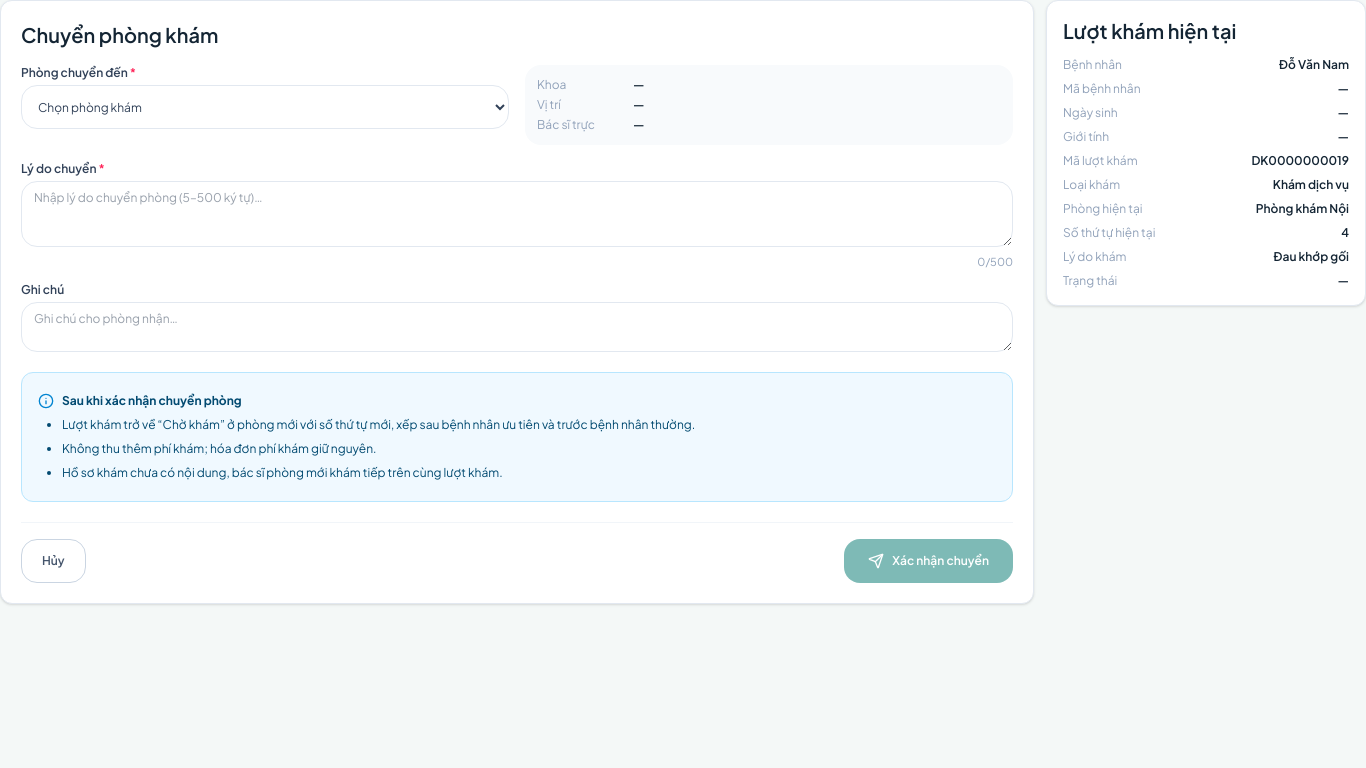
it: TransferRoomPanel › goes back to the form without transferring when the Doctor does not confirm
Select "PK-NGOAI - Phòng khám Ngoại" in the dropdown labelled "Phòng chuyển đến *": (265, 107) [21,85,509,129]
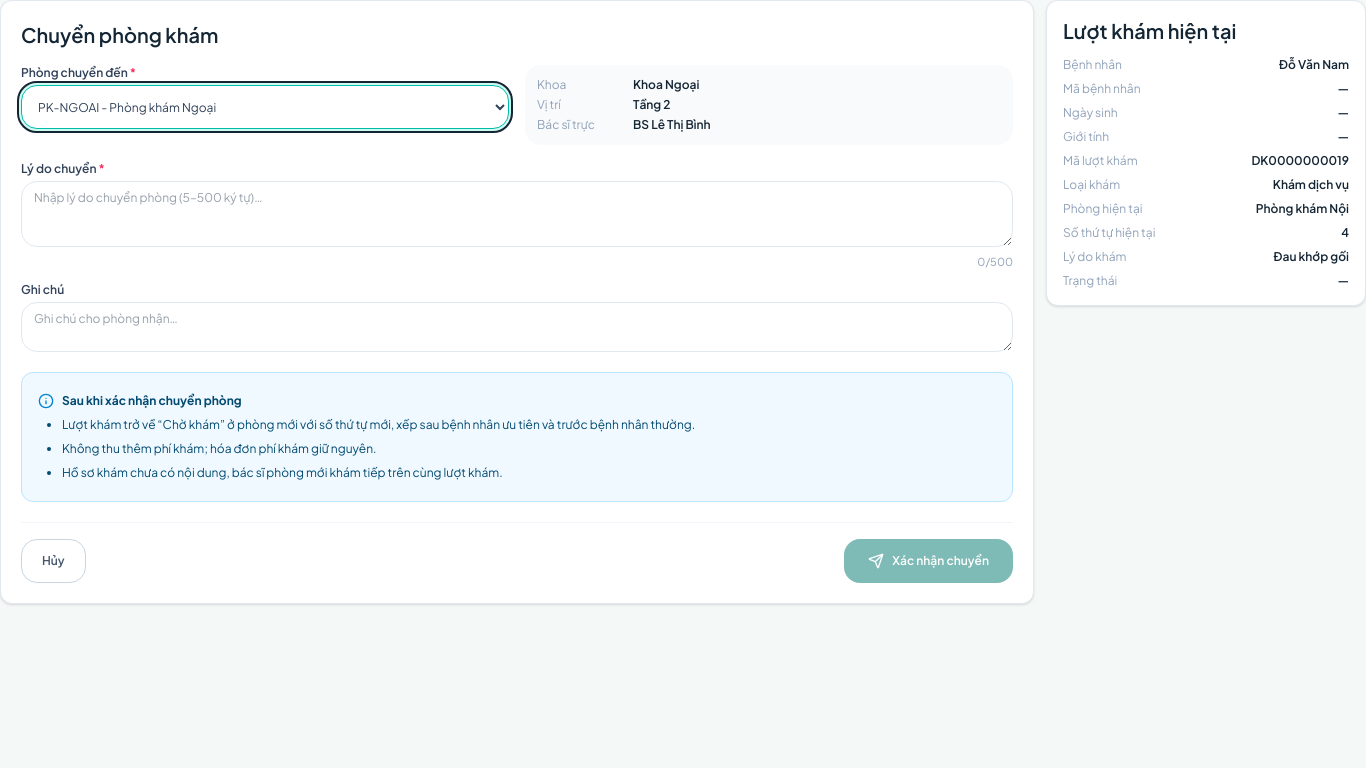
In the text box labelled "Lý do chuyển * 0/500": (517, 214) [21,181,1013,247], type "Cần khám chuyên khoa Ngoại"
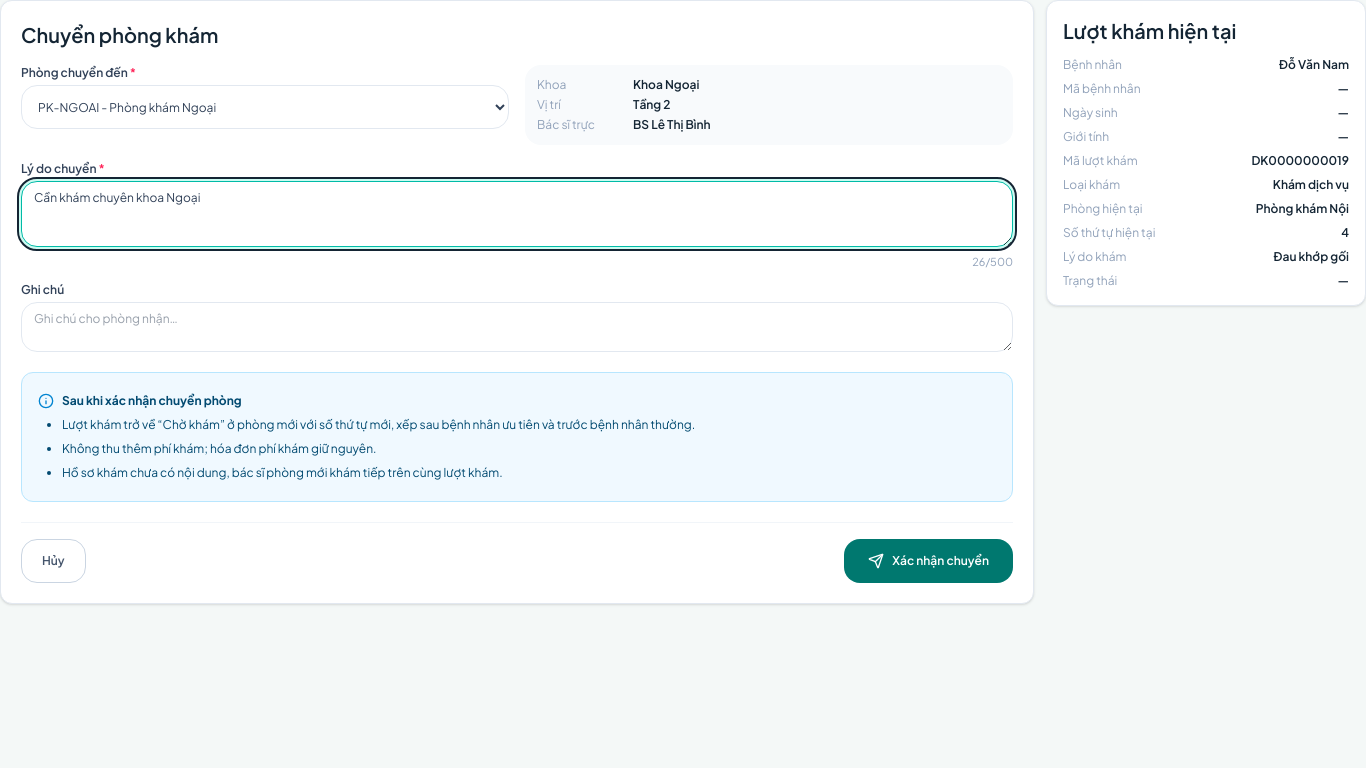
Click the button "Xác nhận chuyển": (929, 561) [844,539,1013,583]
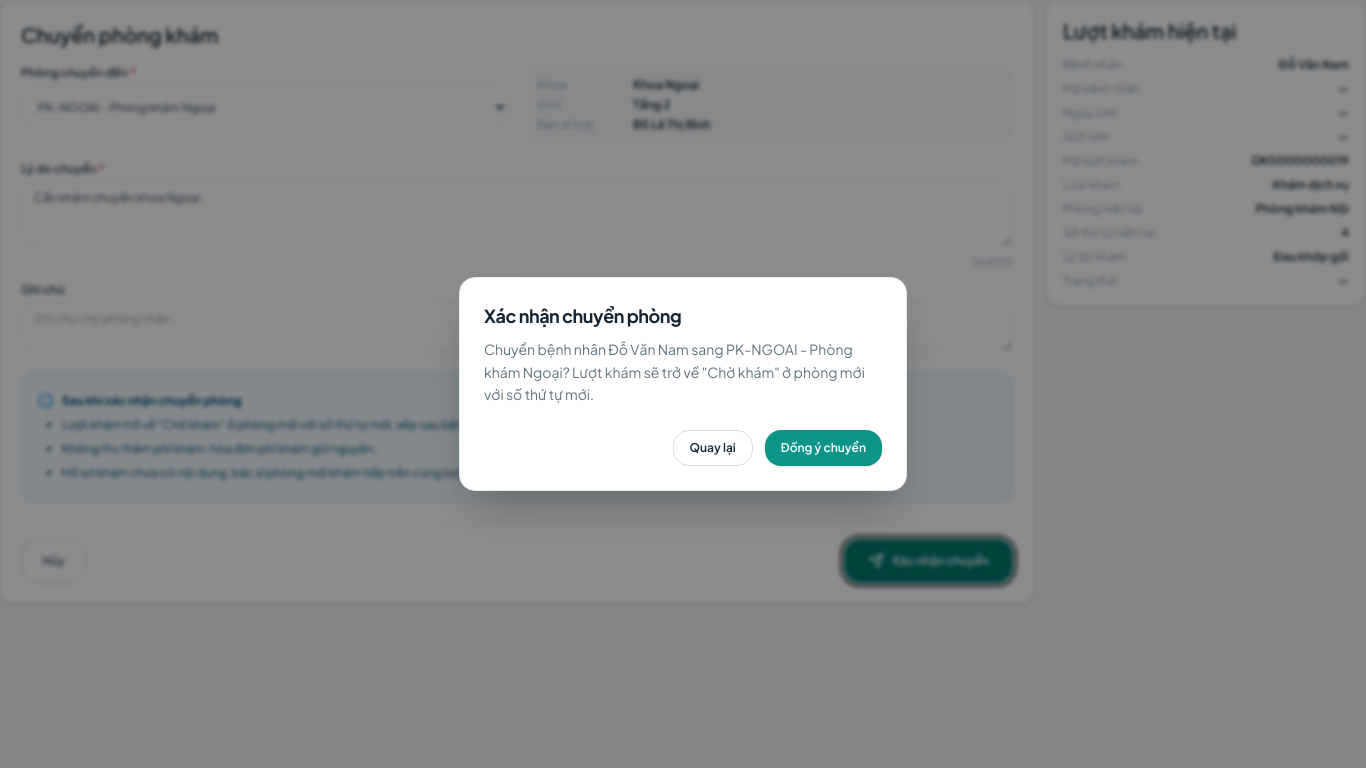
Click the button "Quay lại": (713, 448) [672,430,753,466]
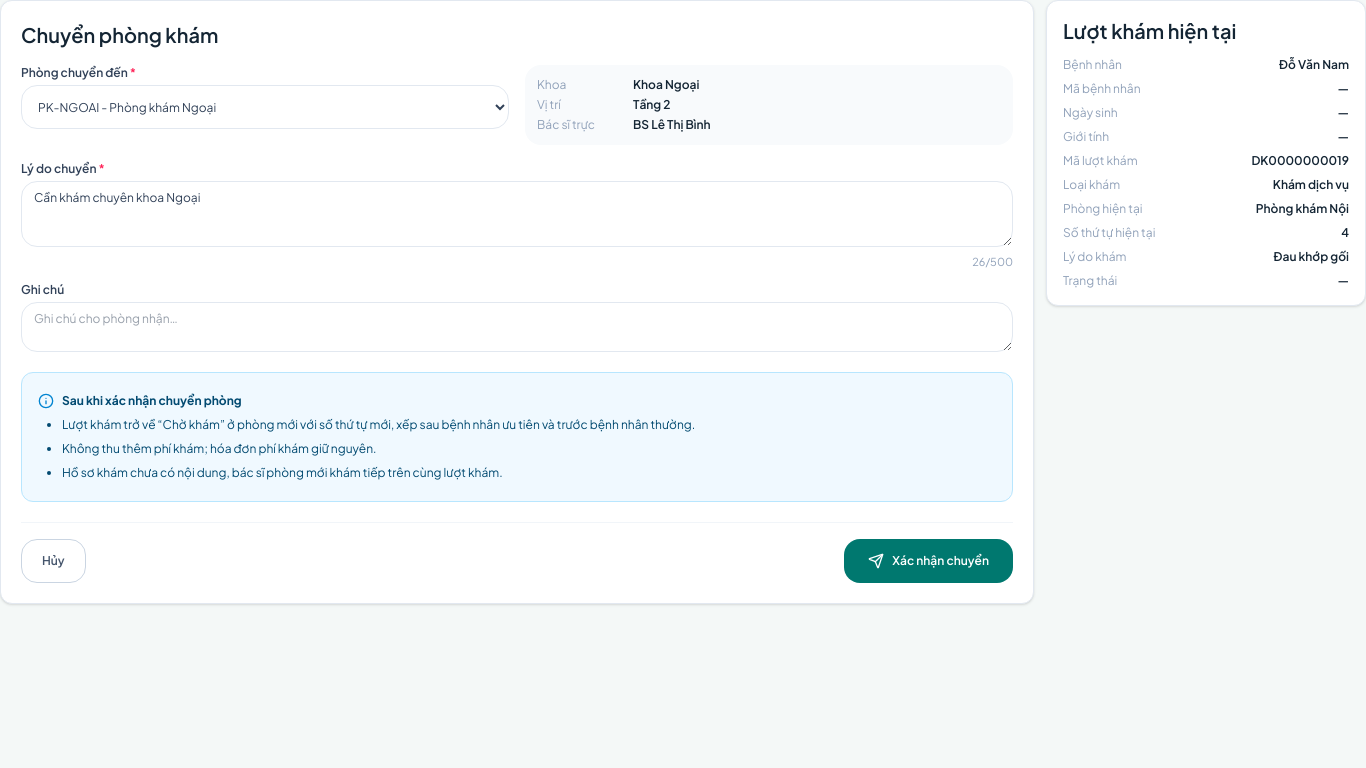
Expected: the button "Đồng ý chuyển" is gone
